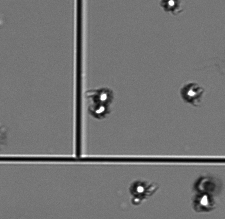Dead Cell: (194, 174, 219, 194)
Living Cell: (181, 81, 202, 101), (195, 192, 215, 211), (129, 180, 148, 199), (93, 86, 113, 103), (90, 101, 109, 118), (162, 1, 181, 13)
